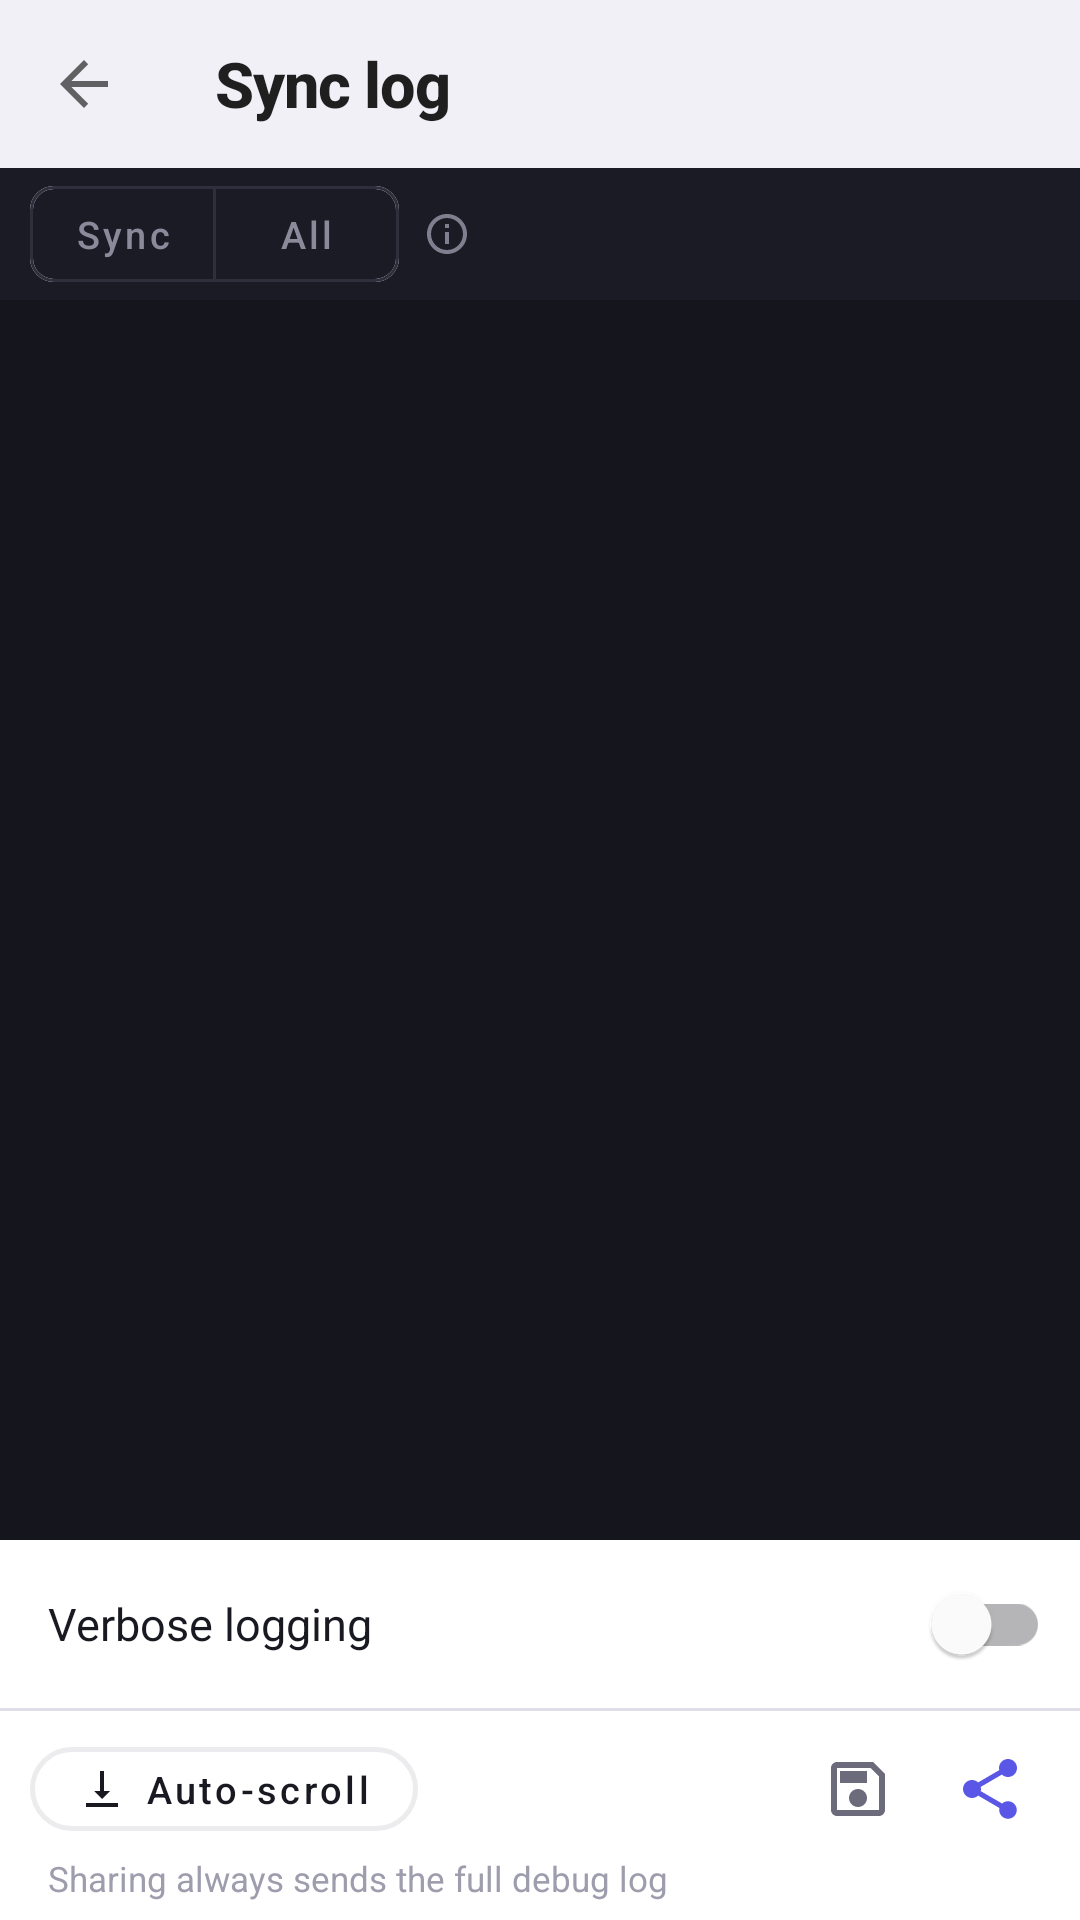

Where to tap for icons on this 1080x1920 app screen, as point (x, y):
Save debug log: point (858, 1789)
Share debug log: point (990, 1789)
